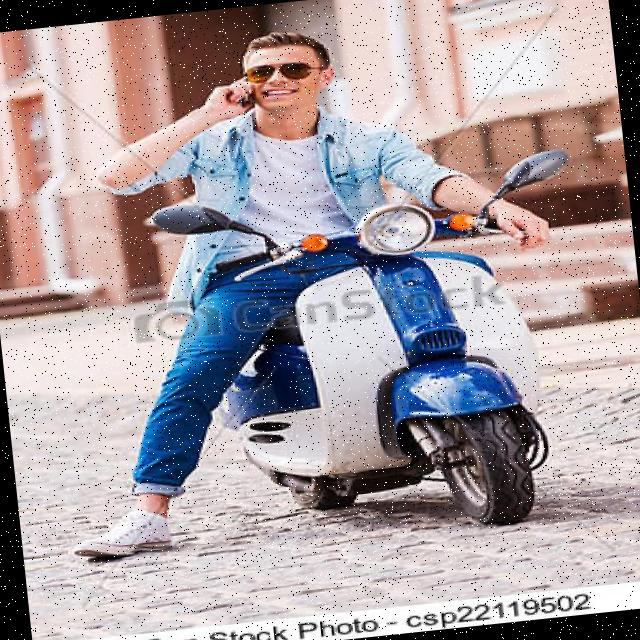Using mobile: (206, 11, 391, 218)
